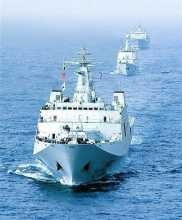warship: (24, 52, 130, 186), (116, 35, 141, 77)
